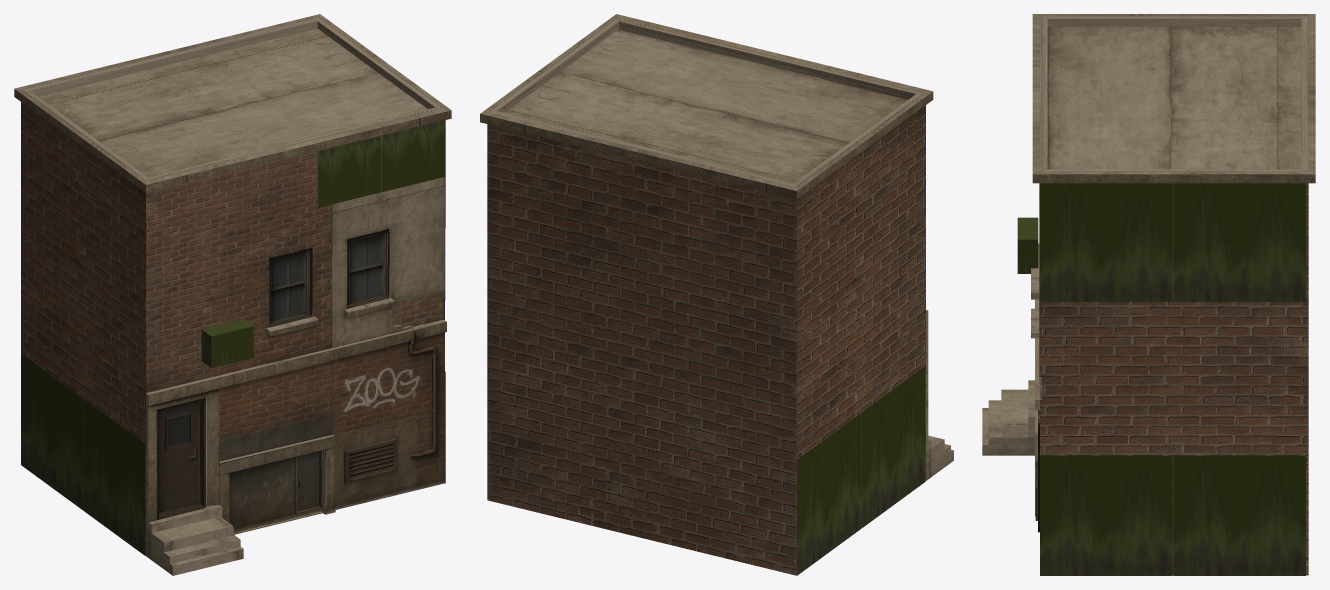
Rendered from house.obj.
The picture shows the model from 3 angles, left to right: view 1: azimuth 30°, elevation 25°; view 2: azimuth 150°, elevation 25°; view 3: azimuth 270°, elevation 25°; orthographic projection. The views are drawn at different scales.
Parts seen in each view (by area): view 1: Urban_House_Urban_0; view 2: Urban_House_Urban_0; view 3: Urban_House_Urban_0.
Boxes of the visible parts, x1,y1,x2,y2 form: Urban_House_Urban_0: (14, 14, 451, 575); Urban_House_Urban_0: (480, 14, 953, 575); Urban_House_Urban_0: (982, 14, 1315, 575).
Bounding box in the file's own units: 6.86 × 8.04 × 6.03.
